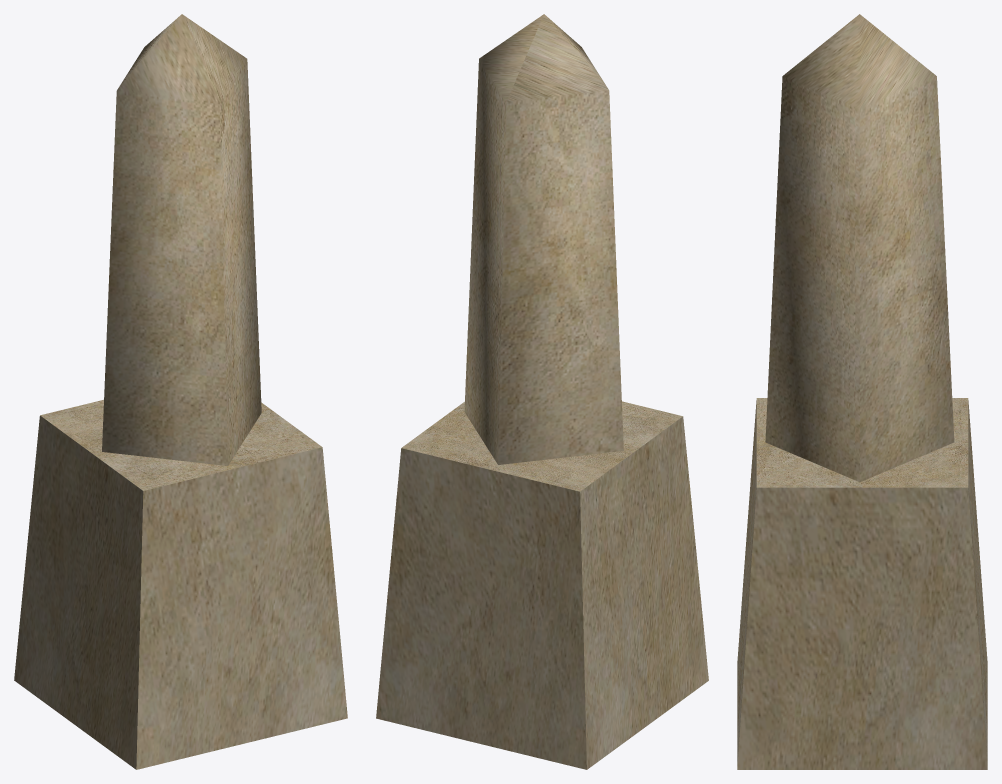
Rendered from thm_nboo_imprv_pillar_s08_l3.fbx.
The picture shows the model from 3 angles, left to right: view 1: azimuth 30°, elevation 25°; view 2: azimuth 150°, elevation 25°; view 3: azimuth 270°, elevation 25°; orthographic projection. The views are drawn at different scales.
Parts seen in each view (by area): view 1: mesh_node; view 2: mesh_node; view 3: mesh_node.
Boxes of the visible parts, x1,y1,x2,y2 form: mesh_node: (14,14,347,769); mesh_node: (376,14,708,769); mesh_node: (737,14,987,769).
Bounding box in the file's own units: 0.5982 × 1.86 × 0.5993.
